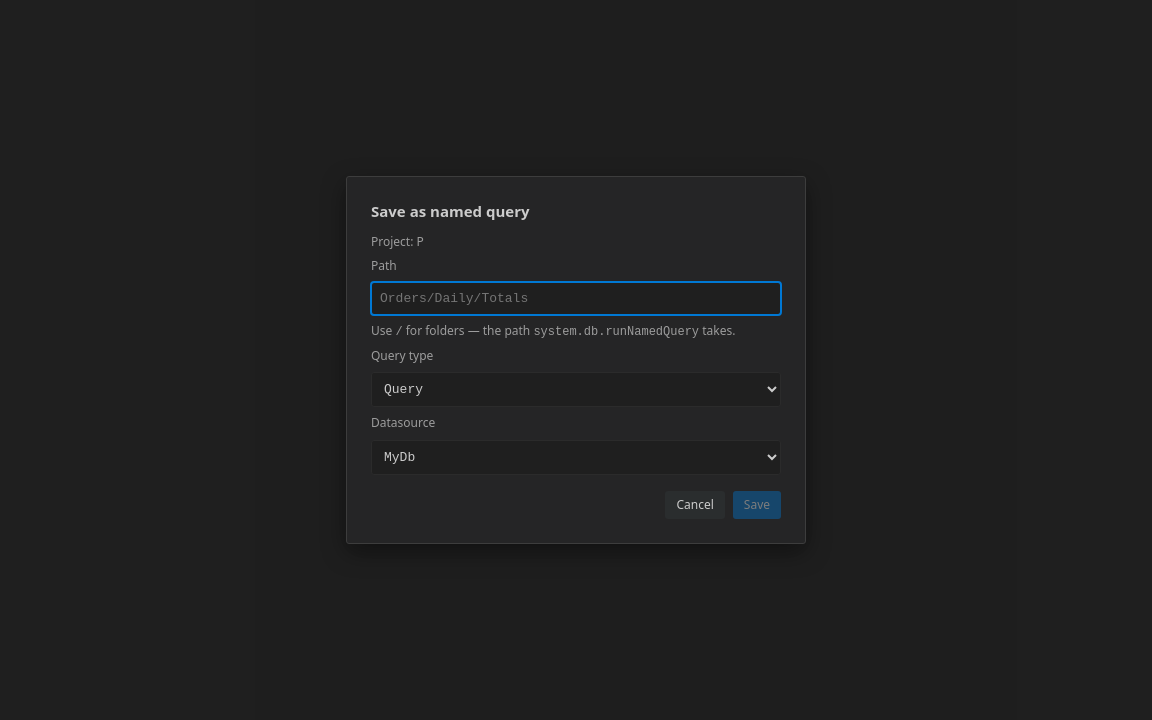
SaveAsNamedQueryDialog — folder/query overlap refusal › refuses a path that is already a named query
Type "Orders/Totals" into the field labelled "Path" at (576, 298), box [371, 282, 781, 315]
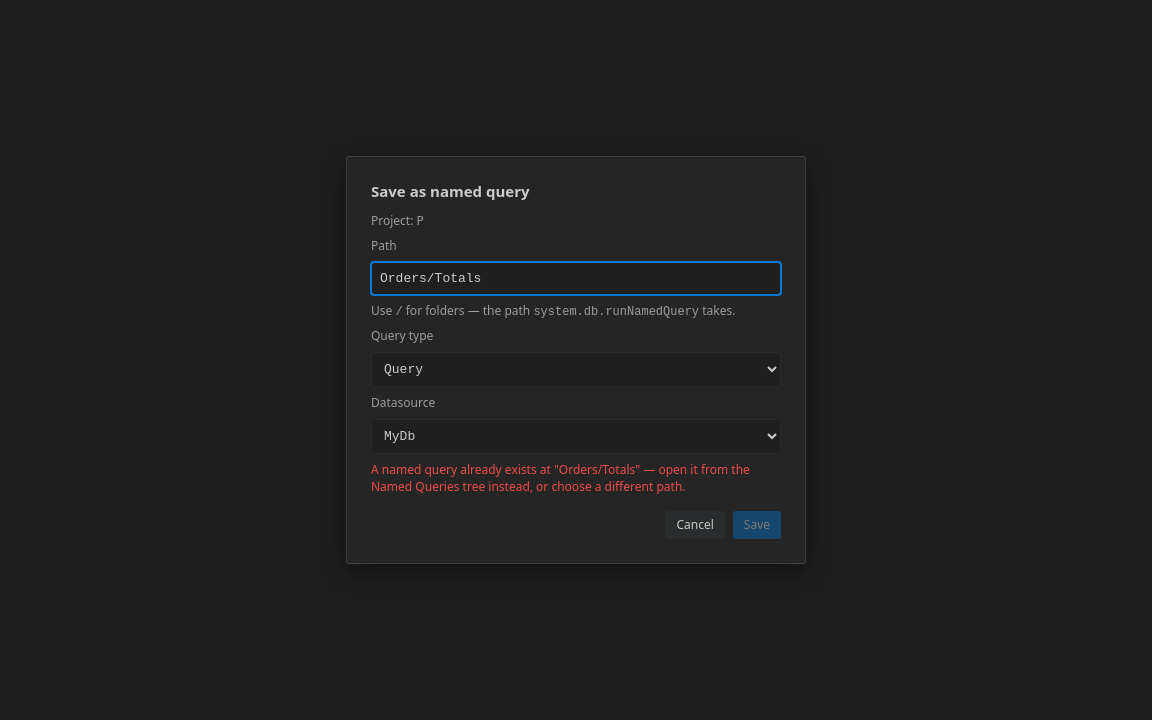
Expected: the button "Save" is disabled, [733, 511, 781, 539]
Result: the message shows "already exists" at [371, 461, 750, 495]
